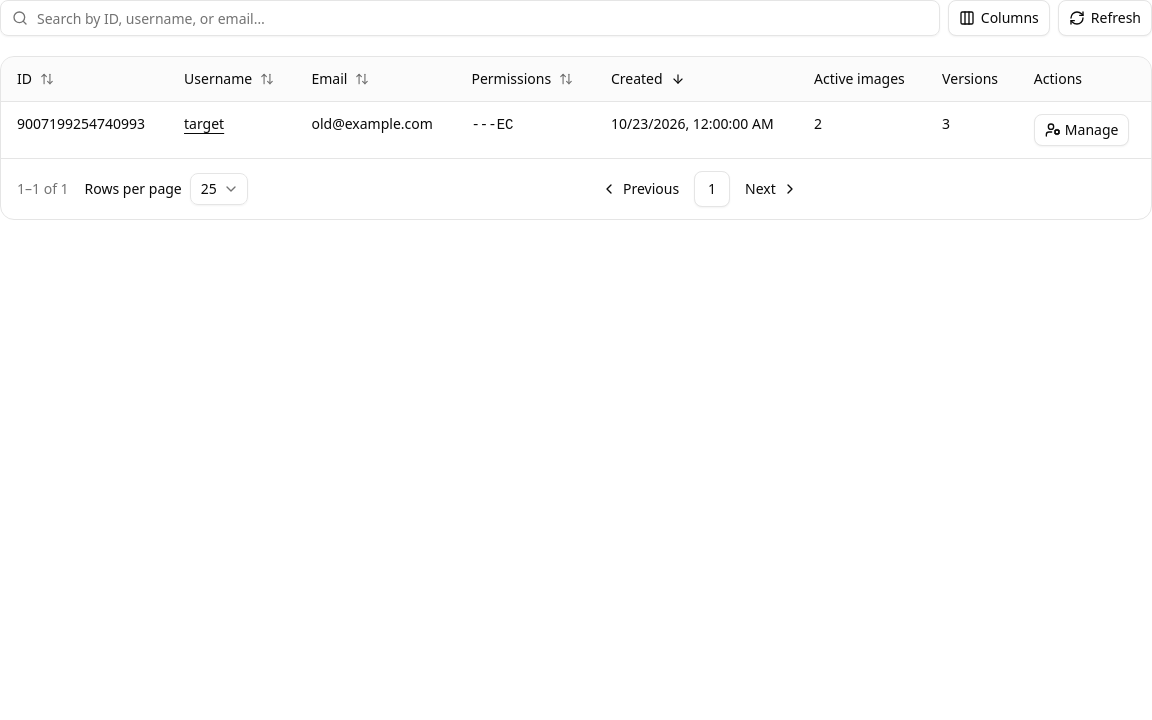
Test: discards draft changes when cancelled and restores the current user on reopening
This screenshot has width=1152, height=720.
Click the button with aria-label "Manage target" at coordinates (1082, 130), box [1034,114,1130,146]
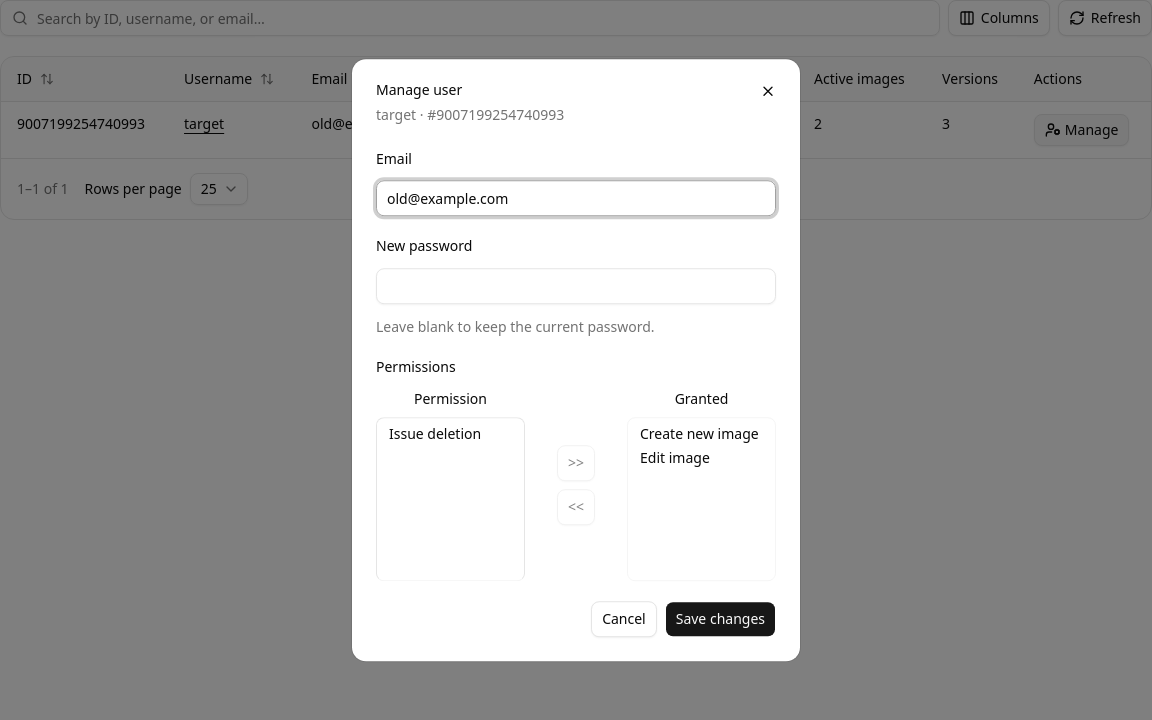
Replace the text in the field labelled "Email" with "draft@example.com" at coordinates (576, 198), box [376,180,776,216]
Type "draft-password" into the password field labelled "New password" at coordinates (576, 286), box [376,268,776,304]
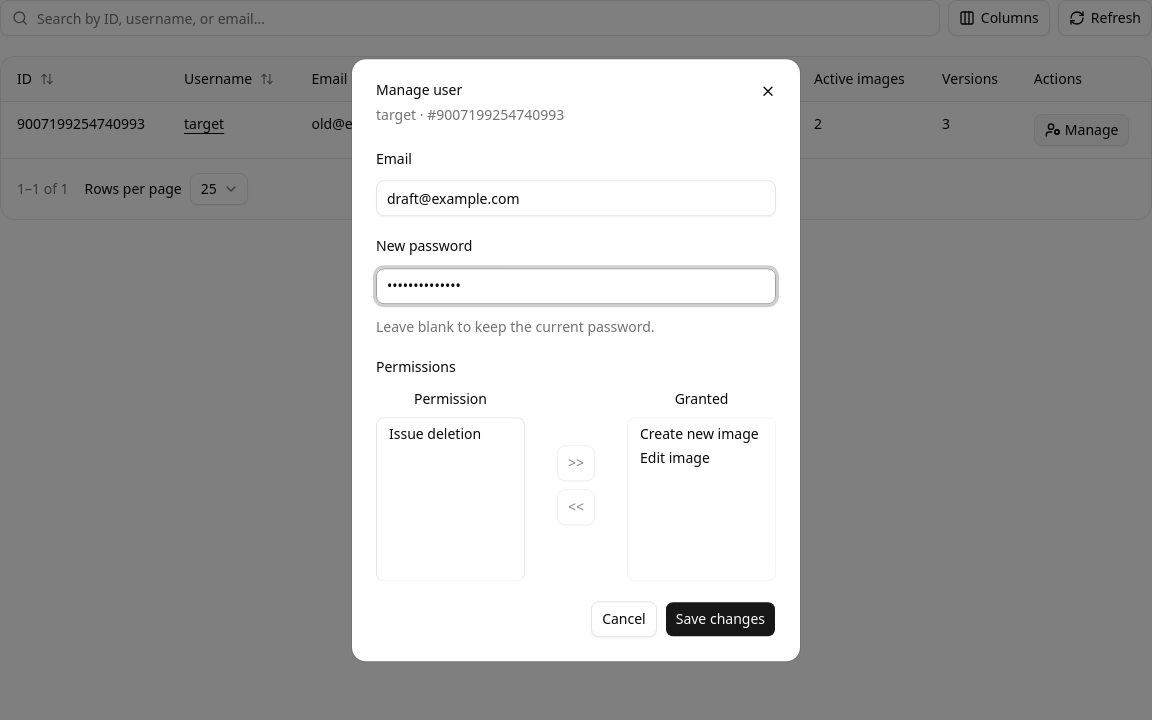
Click the button "Issue deletion" at coordinates (450, 434), box [381,422,520,446]
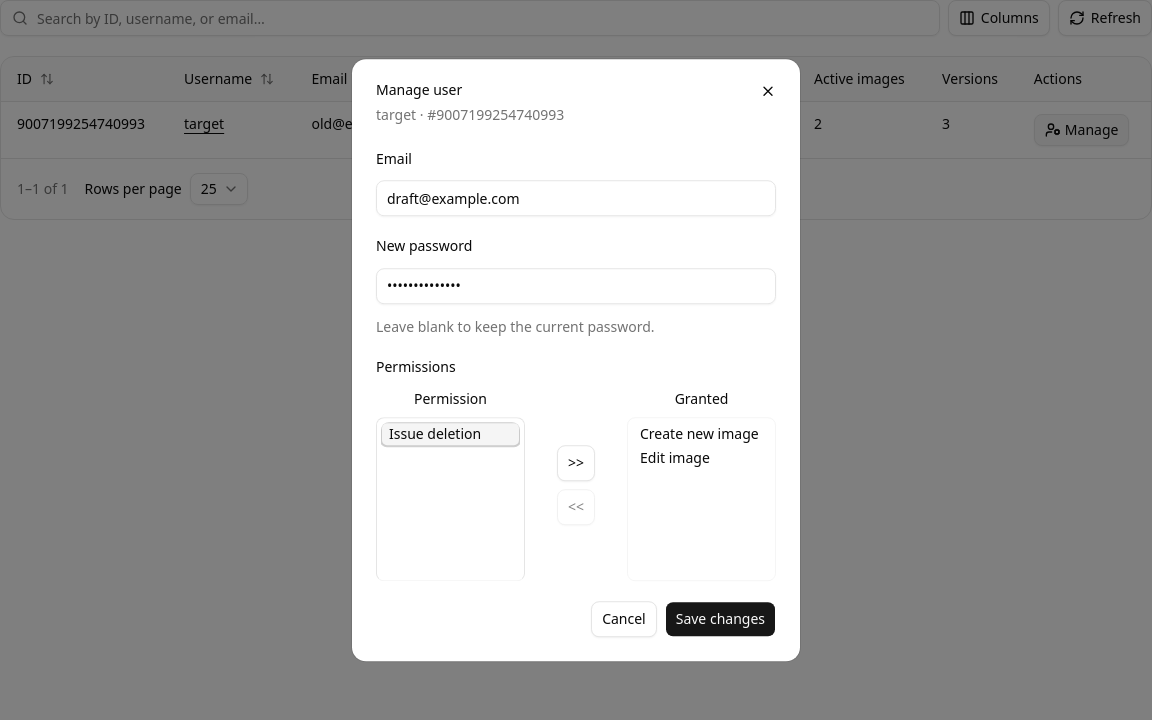
Click the button named "Grant selected permissions" at coordinates (576, 463), box [557,445,595,481]
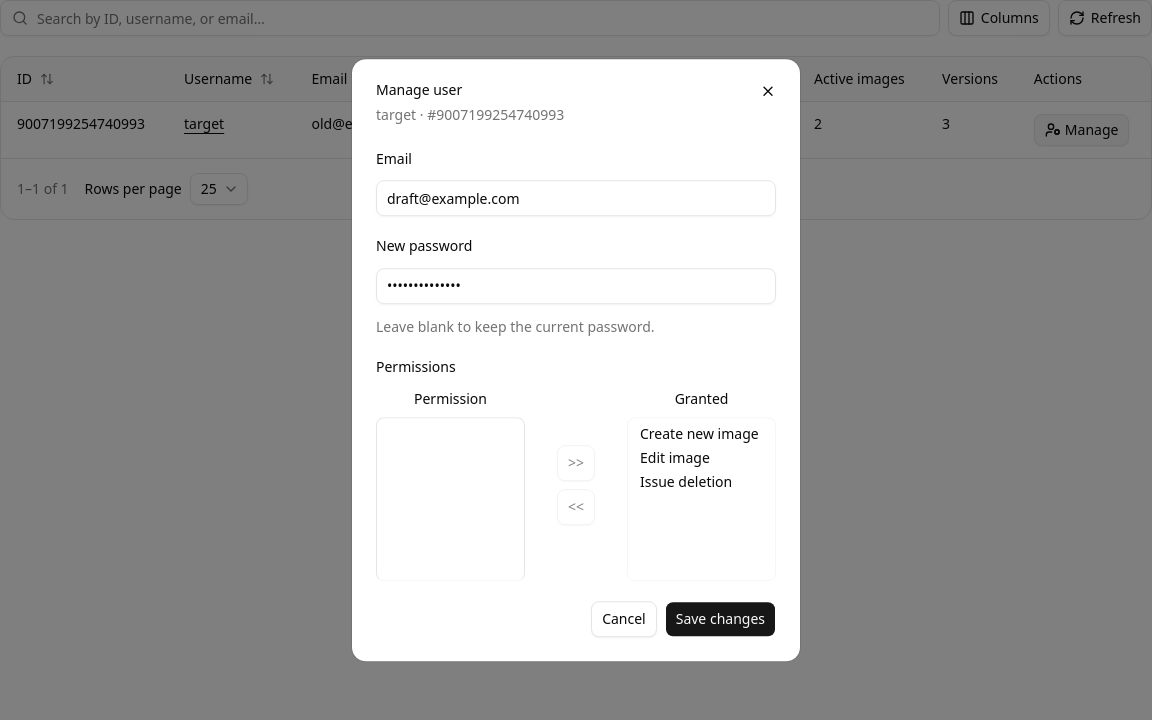
Click the button "Cancel" at coordinates (624, 619), box [591,601,657,637]
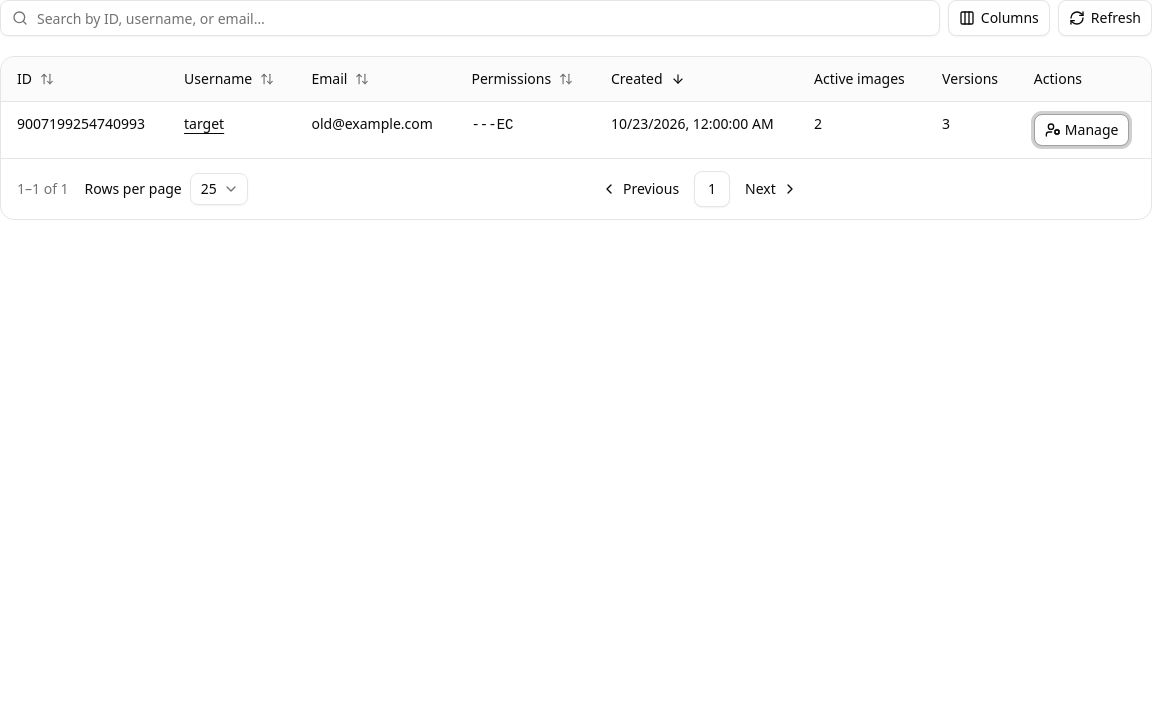
Now the dialog is gone
Click the button with aria-label "Manage target" at coordinates (1082, 130), box [1034,114,1130,146]
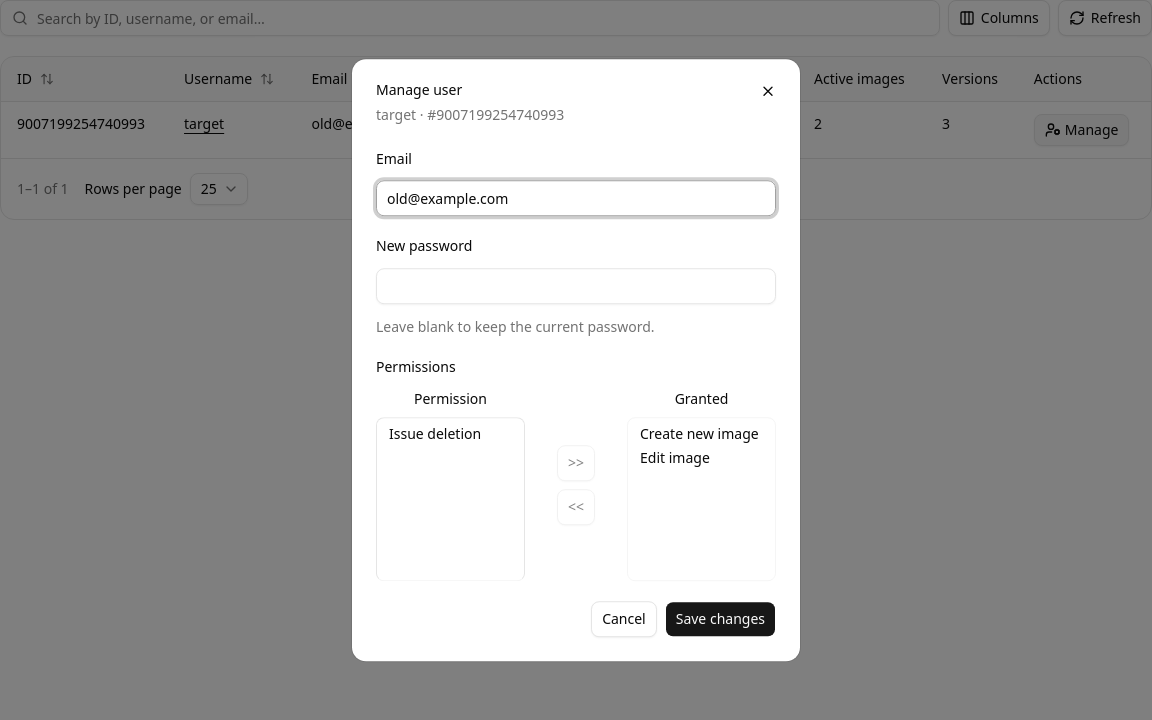
Expected: the password field labelled "New password" is empty, [376,268,776,304]
Now the field labelled "Email" holds "old@example.com", box [376,180,776,216]
Now the button "Issue deletion" is shown, box [381,422,520,446]
